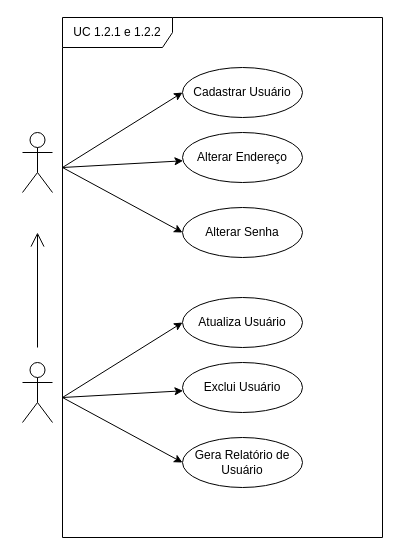
Image size: 400x555. Some labels were removed from this diagram. Each missing label, with the centre of its shape:
Adm: [37,392]
Usuário: [37,162]
